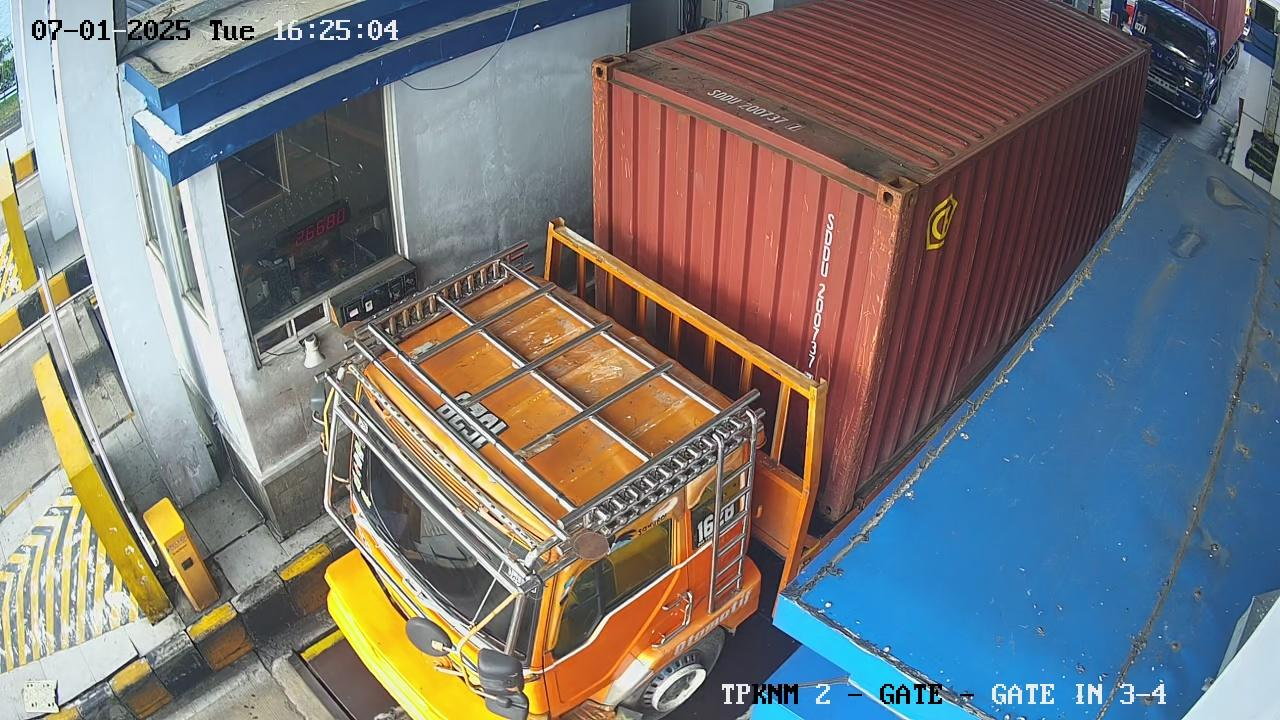Container_ID: (685, 79, 835, 143)
Container_ID_Vertikal: (784, 205, 855, 412)
